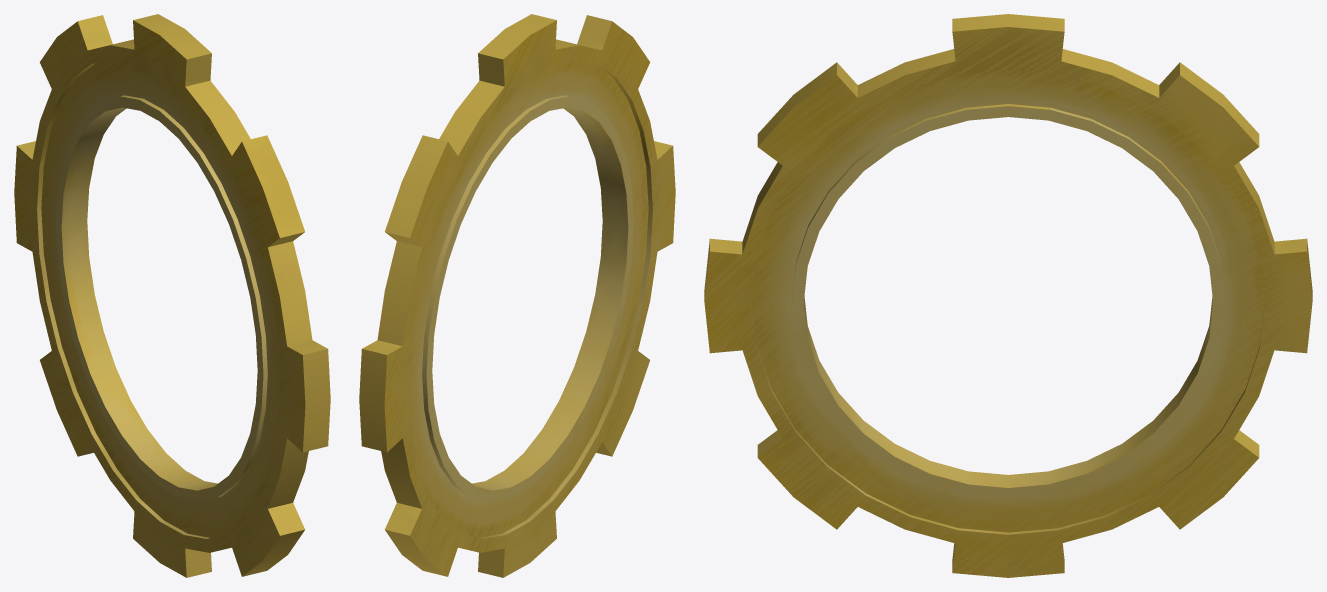
File: gear.fbx
3 renders of one model, left to right at view 1: azimuth 30°, elevation 25°; view 2: azimuth 150°, elevation 25°; view 3: azimuth 270°, elevation 25°, orthographic. The views are drawn at different scales.
Visible parts, largest first — view 1: gear; view 2: gear; view 3: gear.
Part boxes in pixels (<box>): gear: <box>14,14,330,577</box>; gear: <box>359,14,675,577</box>; gear: <box>704,14,1312,577</box>.
Bounding box in the file's own units: 83.81 × 1644 × 1644.
